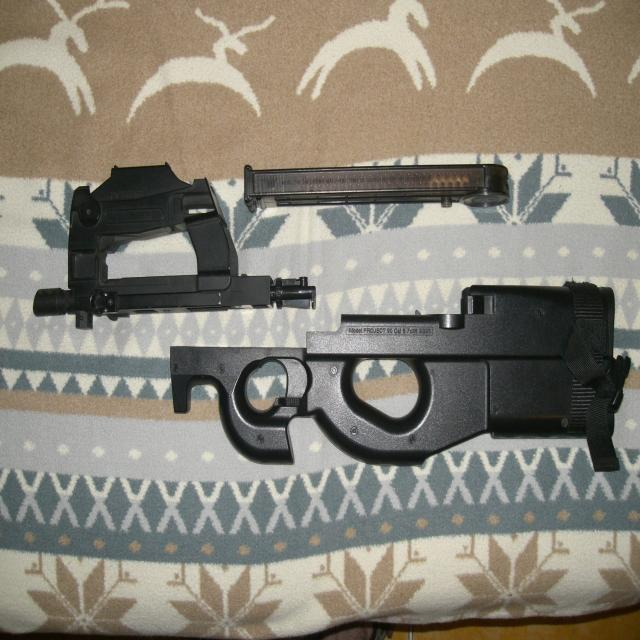Gun: (52, 150, 636, 493)
